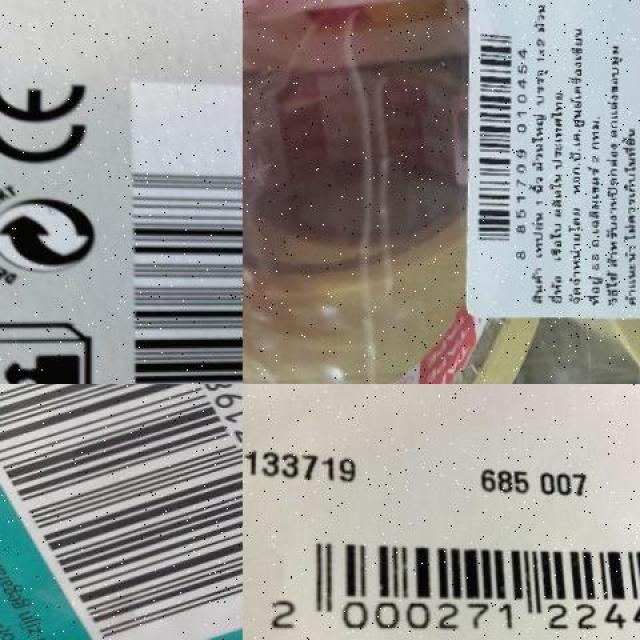Barcode: (0, 384, 243, 640), (242, 500, 640, 640), (121, 79, 243, 384), (466, 20, 529, 263)
